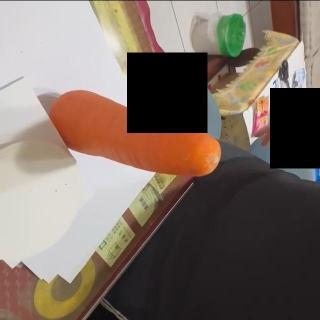carrot: (46, 89, 223, 177)
